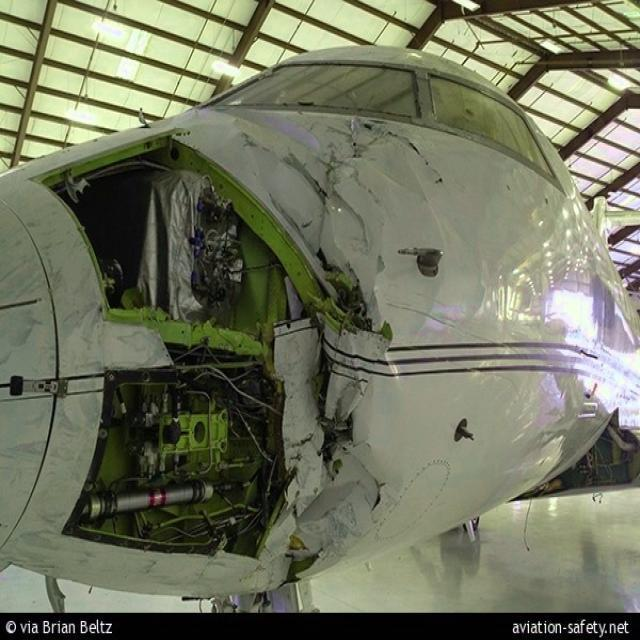crack: (359, 122, 447, 188), (348, 449, 391, 516)
